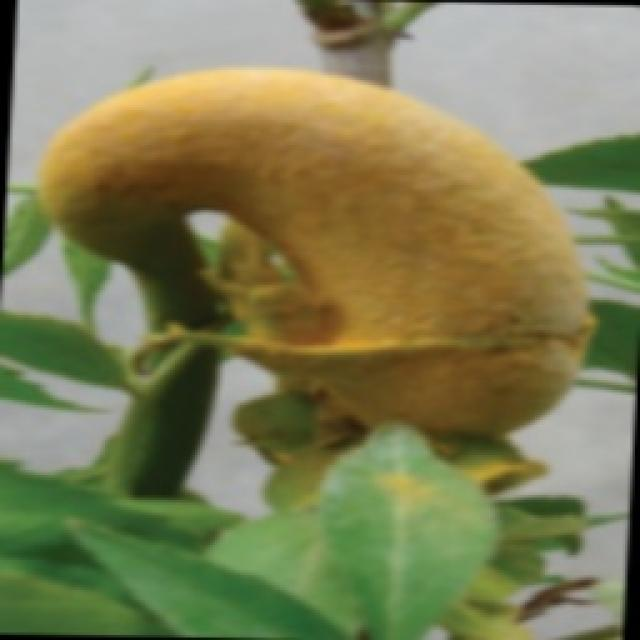Elderberry_rust: (29, 69, 608, 498)
